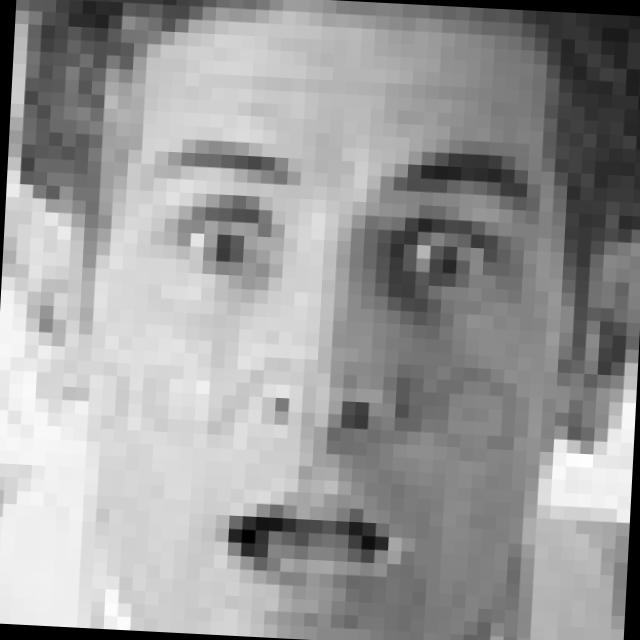surprise: (109, 126, 552, 603)
